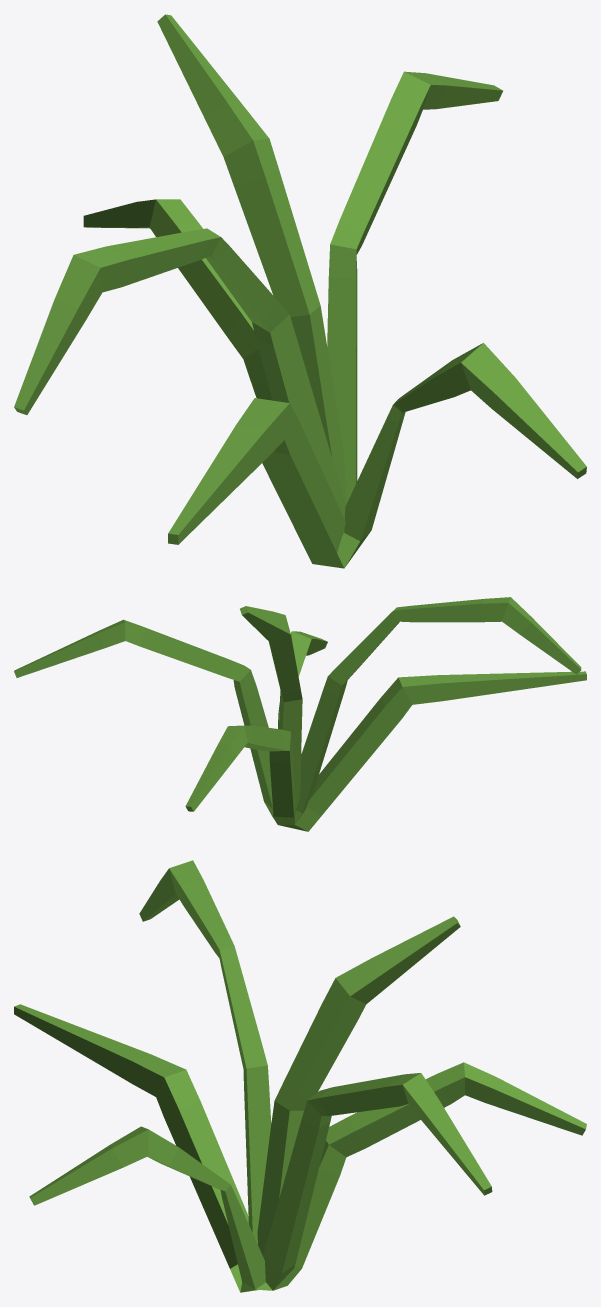
Rendered from Grass_Normal.fbx.
3 views of the same model, one above another, from view 1: azimuth 30°, elevation 25°; view 2: azimuth 150°, elevation 25°; view 3: azimuth 270°, elevation 25° (orthographic). The views are drawn at different scales.
Parts seen in each view (by area): view 1: Gras_Normal; view 2: Gras_Normal; view 3: Gras_Normal.
Part boxes in pixels (x1,y1,x2,y2): Gras_Normal: (14, 14, 586, 568); Gras_Normal: (14, 597, 586, 831); Gras_Normal: (14, 860, 586, 1292).
Bounding box in the file's own units: 125 × 78.21 × 113.
